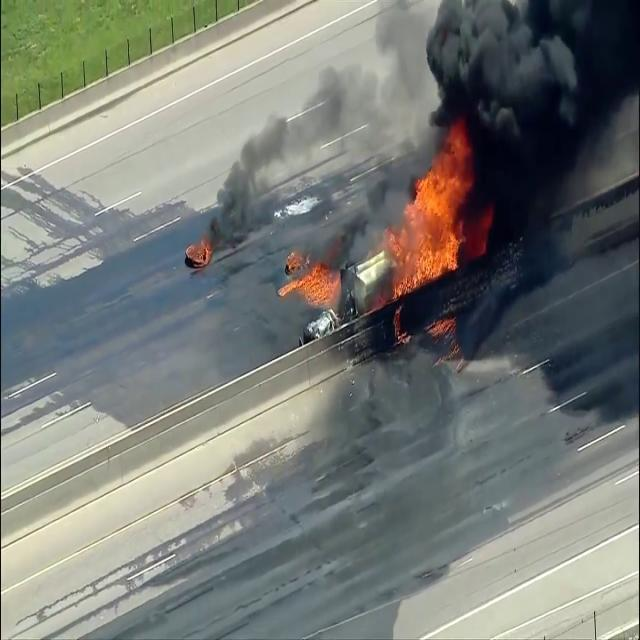Fire: (364, 124, 482, 318), (280, 248, 336, 304)
Smoke: (207, 28, 423, 246), (460, 0, 640, 254)
